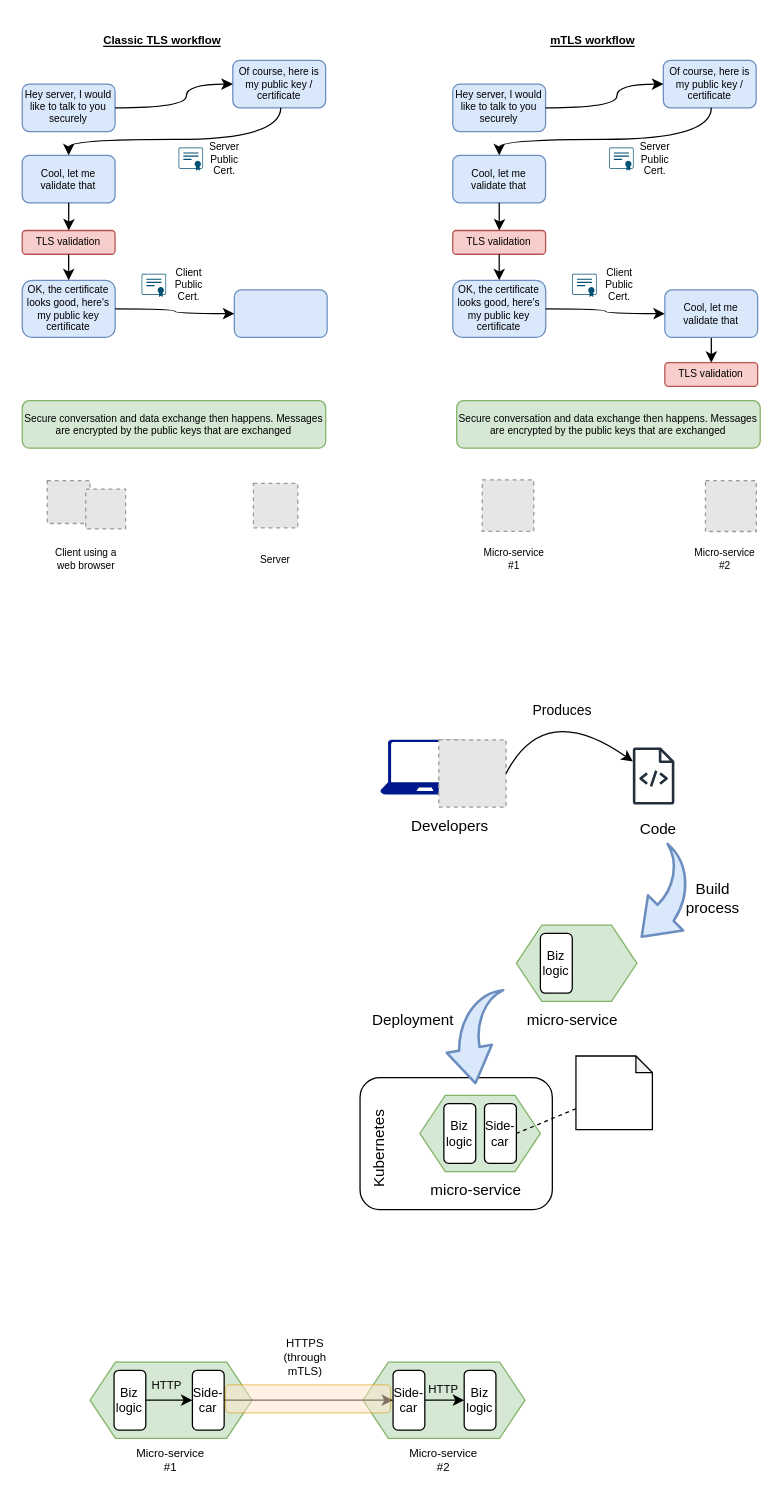
This 784x1500 diagram has some shape labels left out. Grey dashed boxes stand in for pictures. The shapes that lost their labels are listed below. From the top down, each one's box as (x1, y1, x2, y2) in pixels, then its label:
(233, 289, 327, 337): OK, I'm going to trust your certificate by default
(575, 1055, 652, 1130): Sidecar injected
